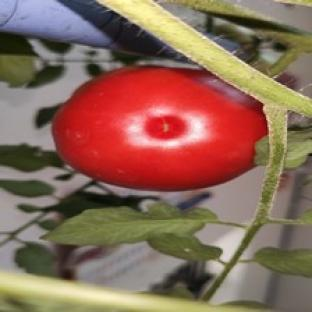Tomato: (53, 67, 267, 190)
